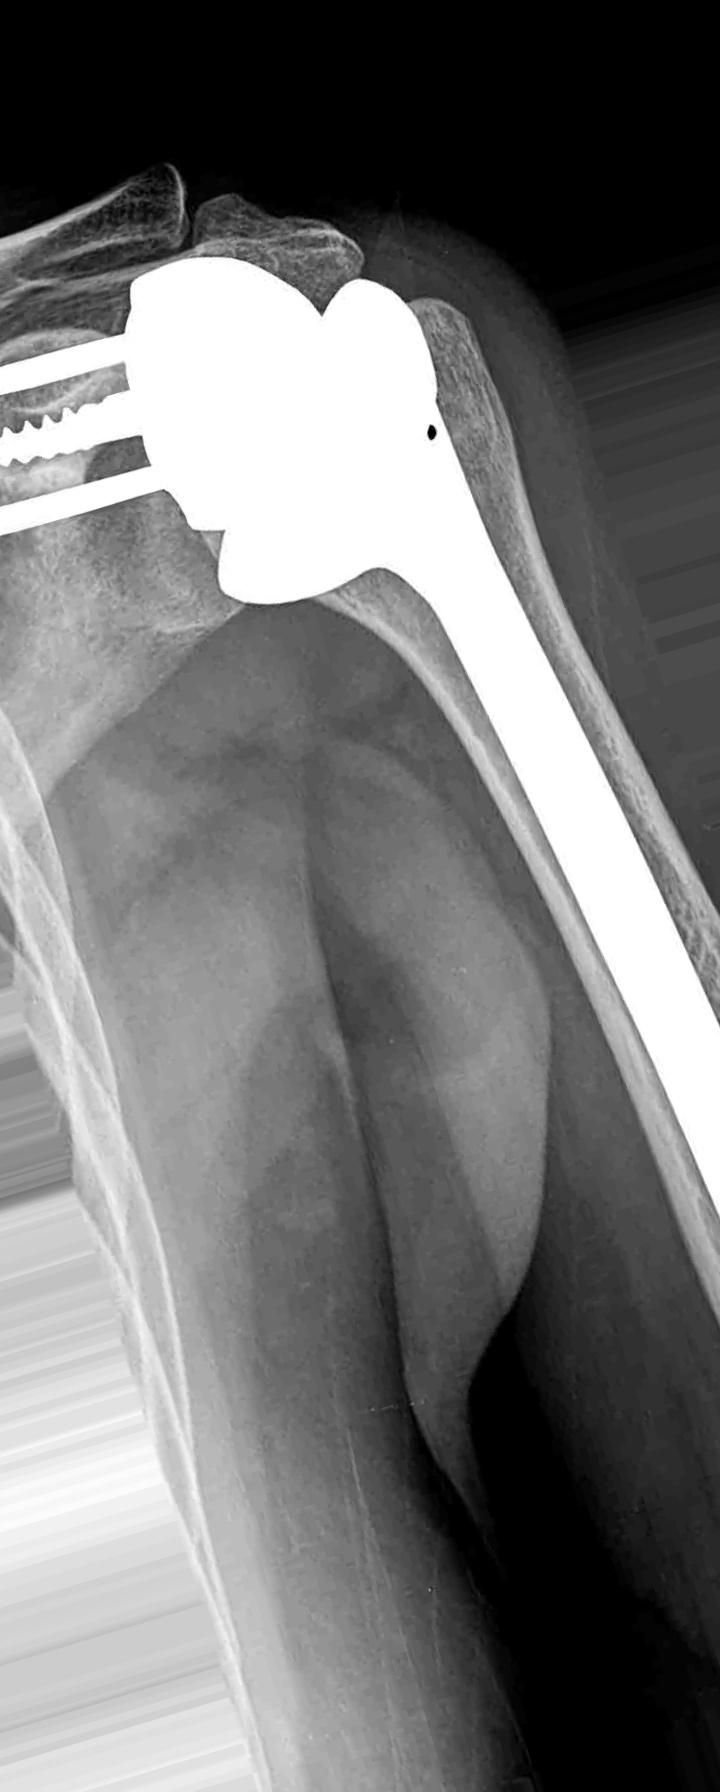Shoulder-Reverse-DJO: (1, 229, 720, 1233)
